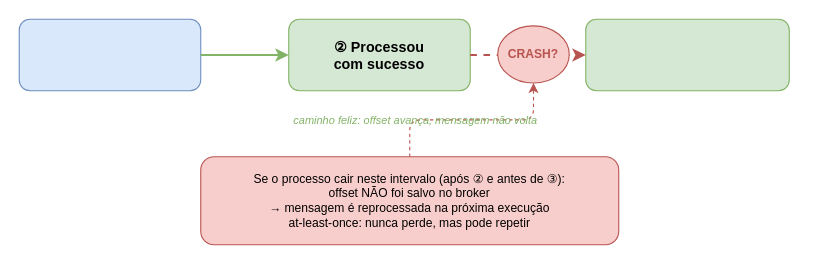
This 831x264 diagram has some shape labels left out. Here are the shapes that lost their labels. From the top down, the centre of each, then its label:
pixel 109 54: ① Leu mensagem
pixel 687 54: ③ Commitou offset (progresso salvo)
